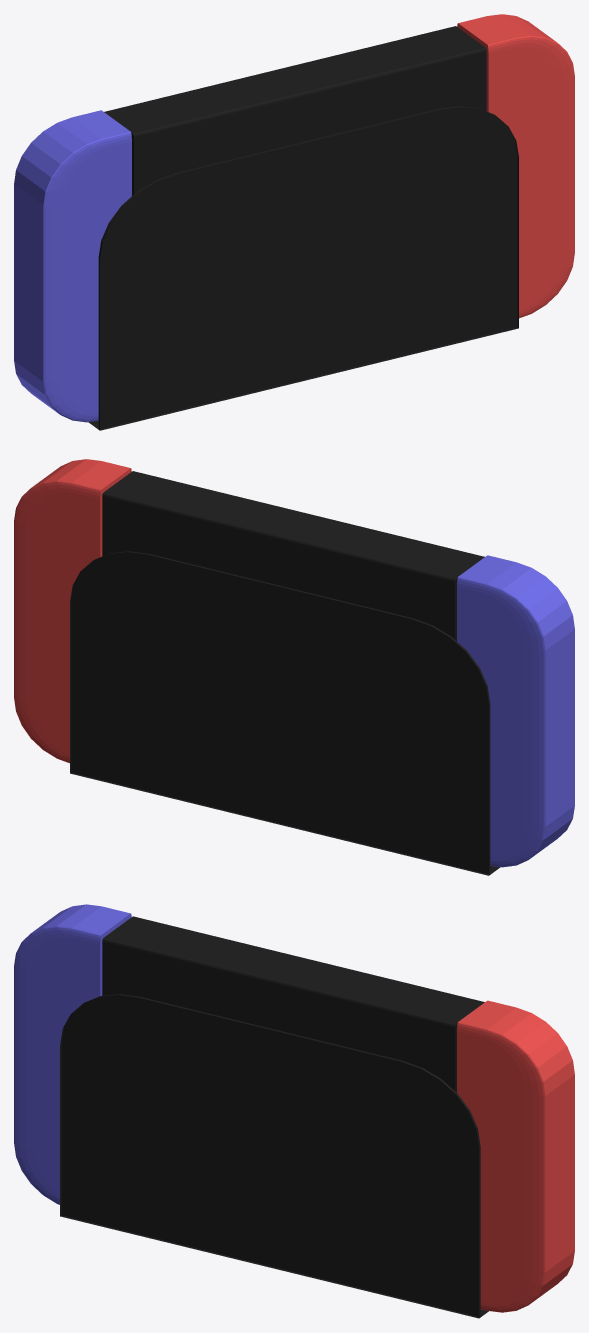
Rendered from game.gltf.
3 renders of one model, top to bottom at view 1: azimuth 30°, elevation 25°; view 2: azimuth 150°, elevation 25°; view 3: azimuth 330°, elevation 25°, orthographic.
Parts seen in each view (by area): view 1: 立方体.003, 立方体.002, 立方体, 立方体.001; view 2: 立方体.003, 立方体.002, 立方体, 立方体.001; view 3: 立方体.003, 立方体.001, 立方体.002, 立方体.
Part boxes in pixels (x1,y1,x2,y2): 立方体.003: [88, 106, 518, 430]; 立方体.002: [104, 26, 486, 195]; 立方体: [14, 110, 131, 422]; 立方体.001: [457, 14, 574, 318]; 立方体.003: [70, 551, 500, 875]; 立方体.002: [102, 471, 484, 641]; 立方体: [457, 555, 574, 867]; 立方体.001: [14, 459, 131, 763]; 立方体.003: [60, 994, 488, 1318]; 立方体.001: [457, 1000, 574, 1312]; 立方体.002: [102, 916, 484, 1092]; 立方体: [14, 904, 131, 1204].
Bounding box in the file's own units: 3.95 × 2.03 × 0.5136.
